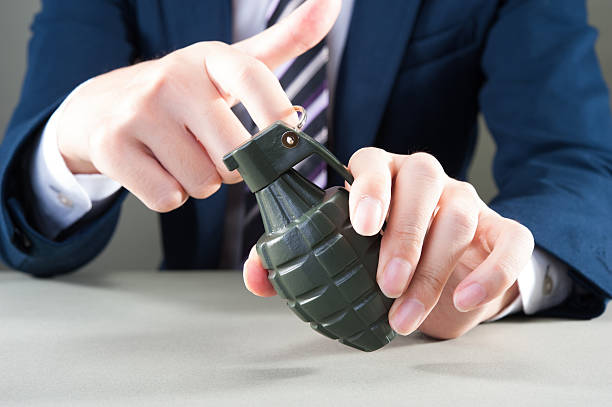e1: (221, 102, 399, 347)
